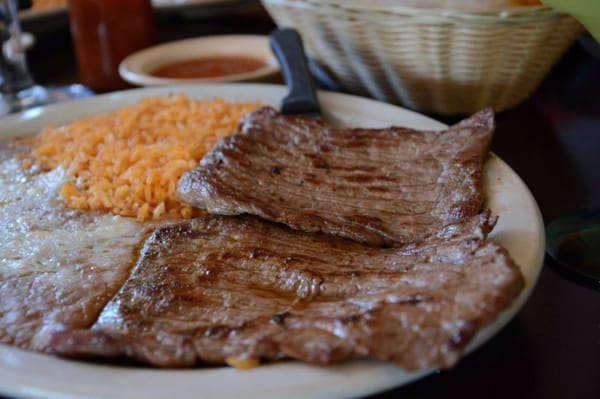pizza: (65, 0, 160, 93)
